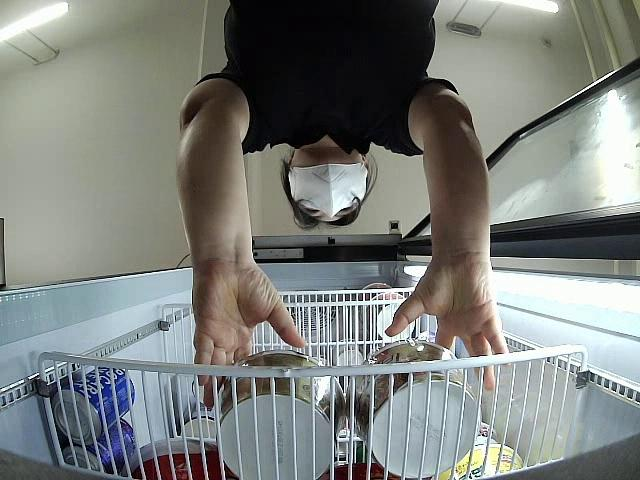00_hand: (193, 273, 310, 410), (385, 266, 513, 391)
03_chapagetti_L: (349, 337, 481, 479), (214, 349, 347, 480)
